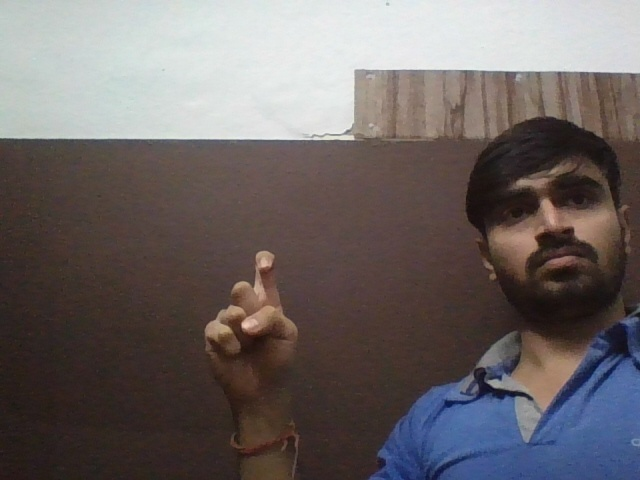X: (194, 244, 309, 411)
